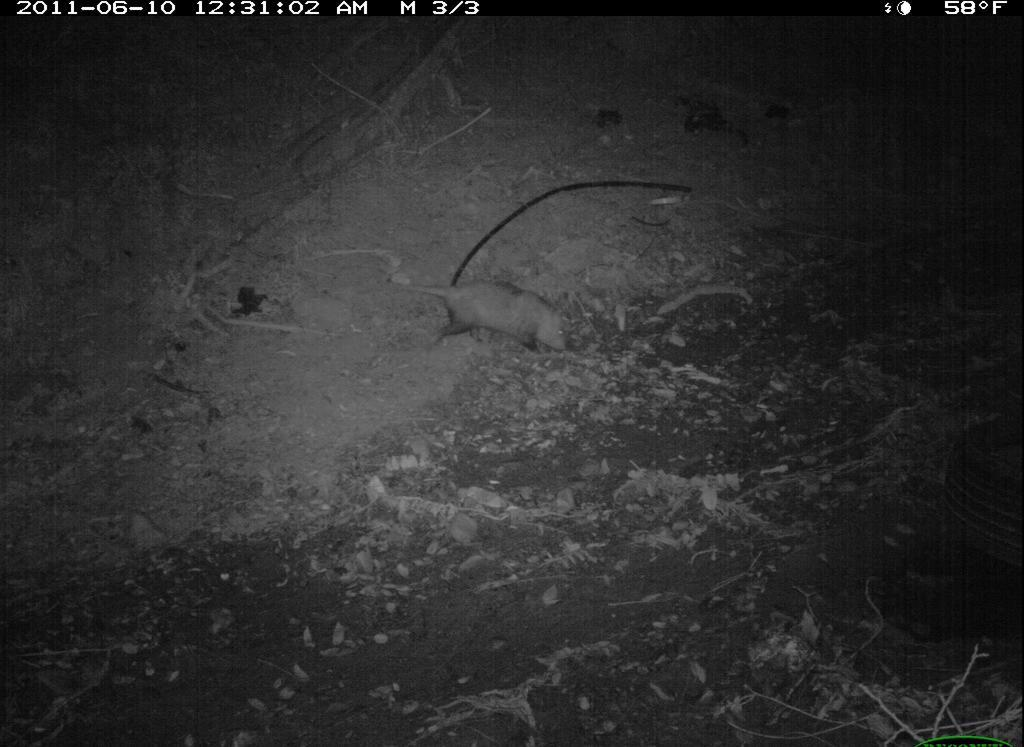opossum: (382, 265, 588, 369)
